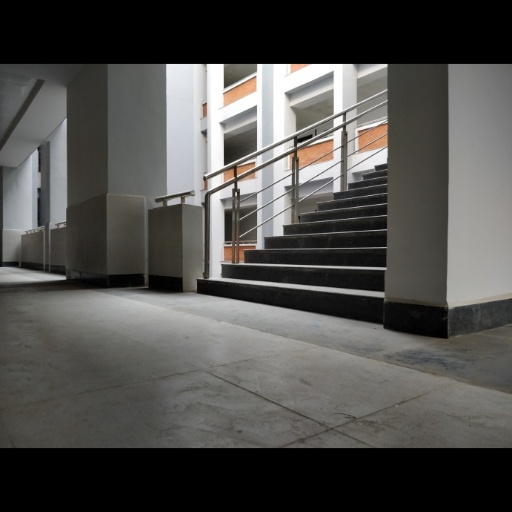Stairs: (198, 166, 387, 322)
